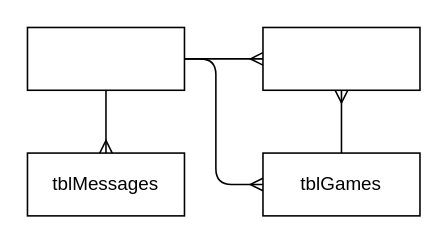
This 447x243 diagram has some shape labels left out. Here are the shapes that lost their labels. From the top down, the centre of each, then its label:
pixel 105 58: tblUsers
pixel 340 58: tblStatistics
